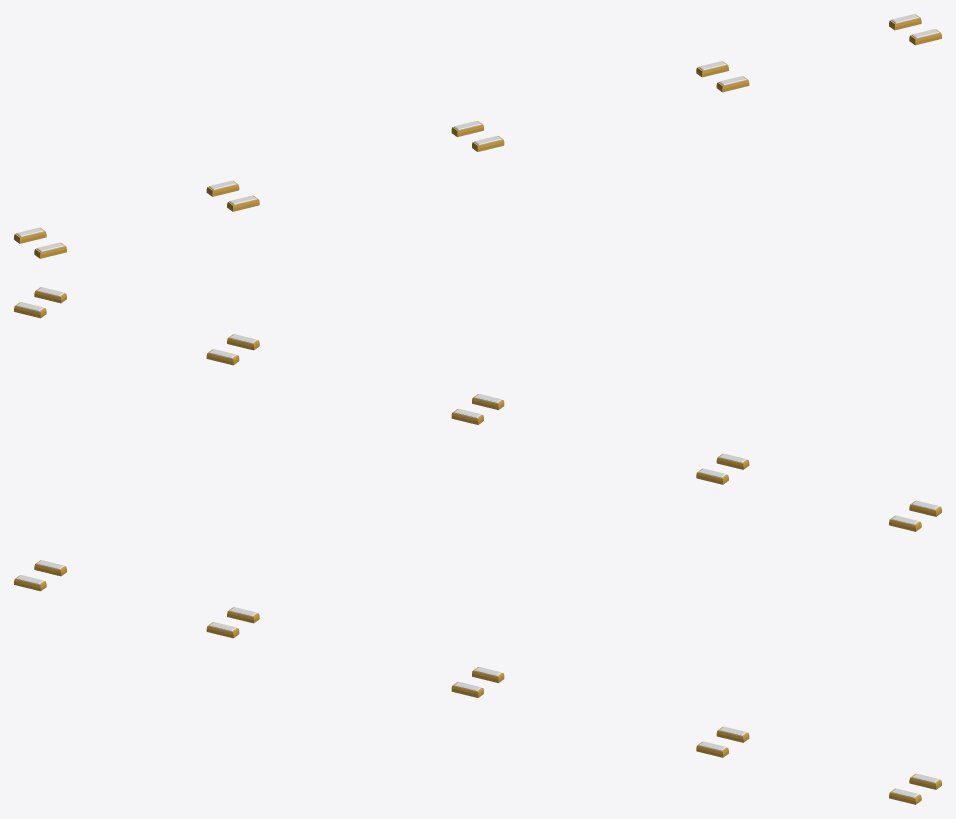
Rendered from DoorLamba.fbx.
The picture shows the model from 3 angles, top to bottom: view 1: azimuth 30°, elevation 25°; view 2: azimuth 150°, elevation 25°; view 3: azimuth 330°, elevation 25°; orthographic projection.
Parts seen in each view (by area): view 1: Cube.003; view 2: Cube.003; view 3: Cube.003.
Boxes of the visible parts, bbox=[...] form: Cube.003: bbox=[14, 14, 941, 258]; Cube.003: bbox=[14, 287, 941, 531]; Cube.003: bbox=[14, 560, 941, 804].
Size of the model in its own units: 1127 by 8.28 by 56.56.
